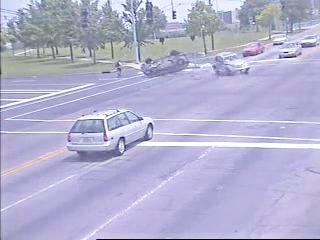Car: (66, 108, 154, 156), (141, 53, 187, 77), (212, 52, 249, 75), (279, 43, 302, 59), (243, 42, 265, 56), (300, 34, 320, 47), (272, 34, 288, 45)
Major Accident: (140, 51, 251, 76)
